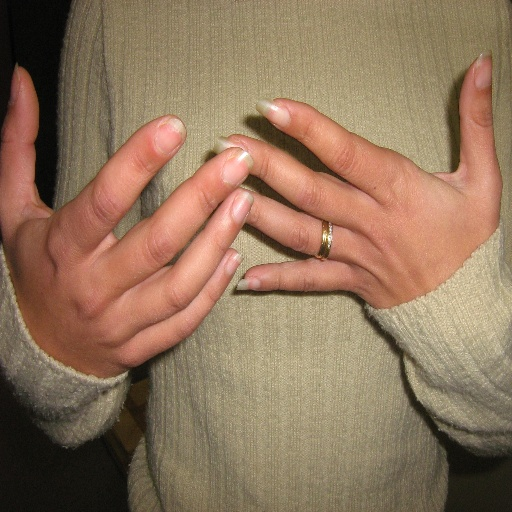hand: (213, 0, 511, 460), (0, 61, 253, 377)
